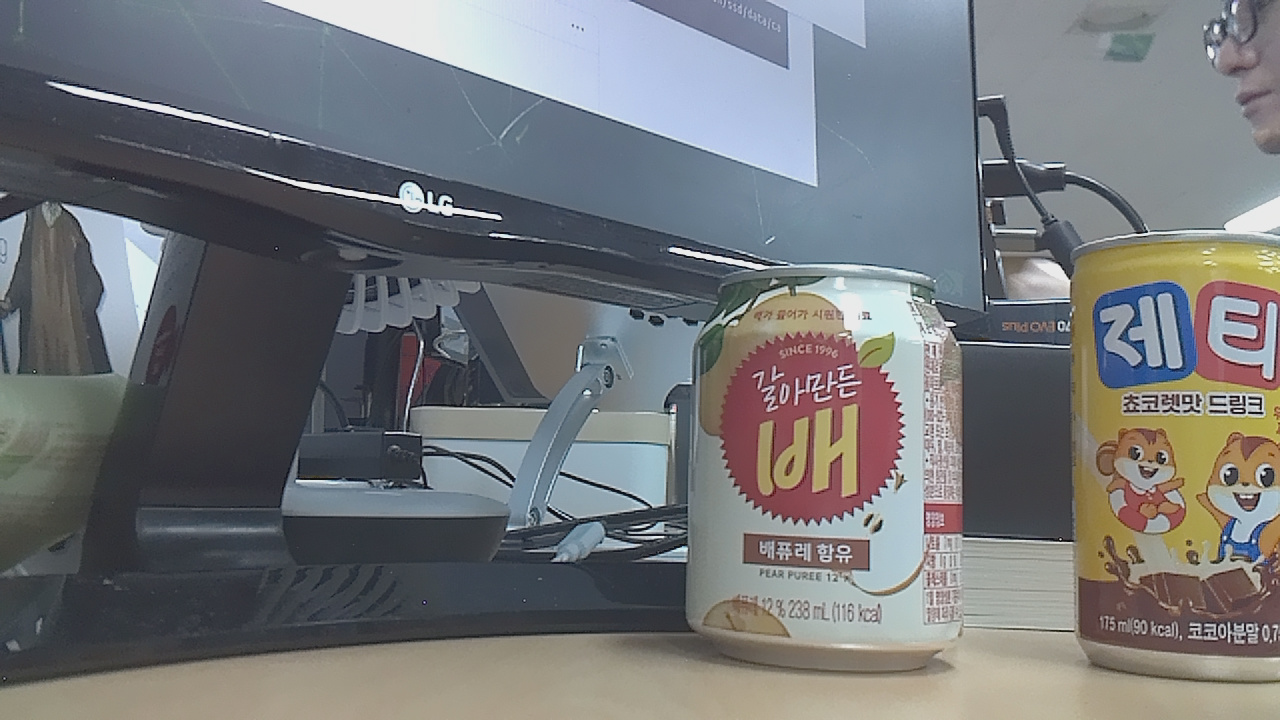IdH (pear juice): (689, 250, 977, 673)
jetty: (1066, 218, 1280, 698)
